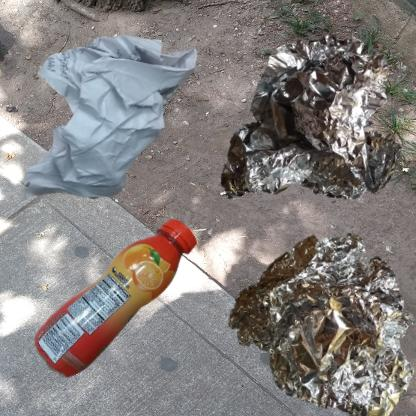aluminio: (213, 10, 416, 259), (213, 213, 416, 416)
botella: (10, 213, 287, 416)
papel: (10, 10, 211, 243)
